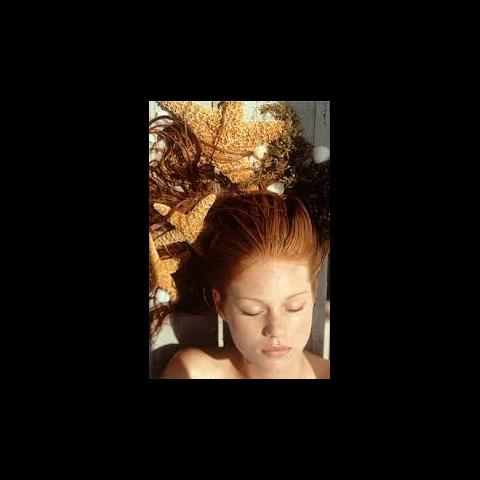closed: (231, 294, 310, 320)
